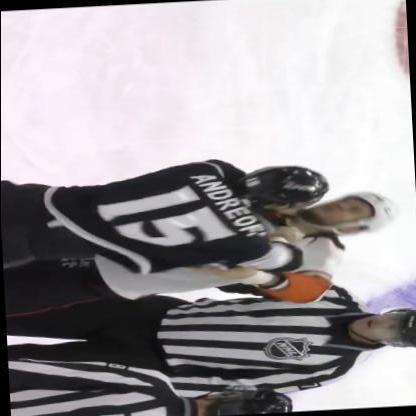voilence: (1, 149, 408, 320)
